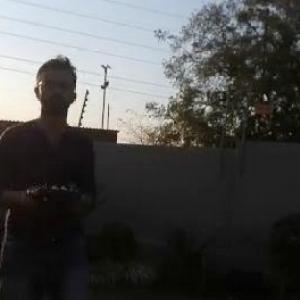follow: (0, 46, 106, 299)
